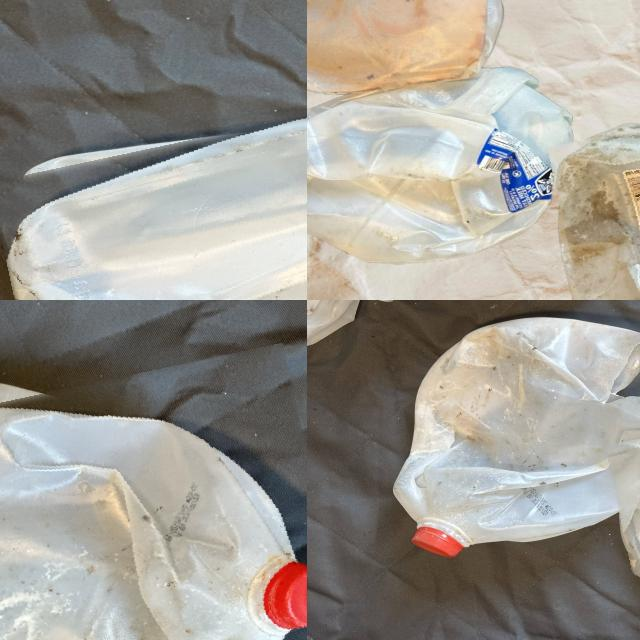milk-jug: (0, 364, 307, 640), (0, 99, 307, 300), (391, 321, 640, 562), (307, 63, 562, 265), (307, 0, 506, 88), (560, 114, 640, 300)
